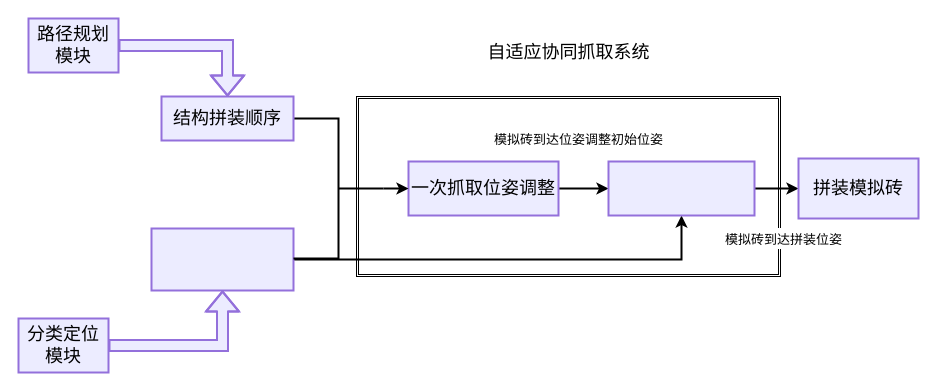
Image size: 936x390. Some labels were removed from this diagram. Here are the shapes that lost their labels. From the top down, the box of each, then its label:
(607, 160, 755, 216): 二次抓取位姿调整
(150, 227, 294, 291): 模拟砖类型、位置信息
